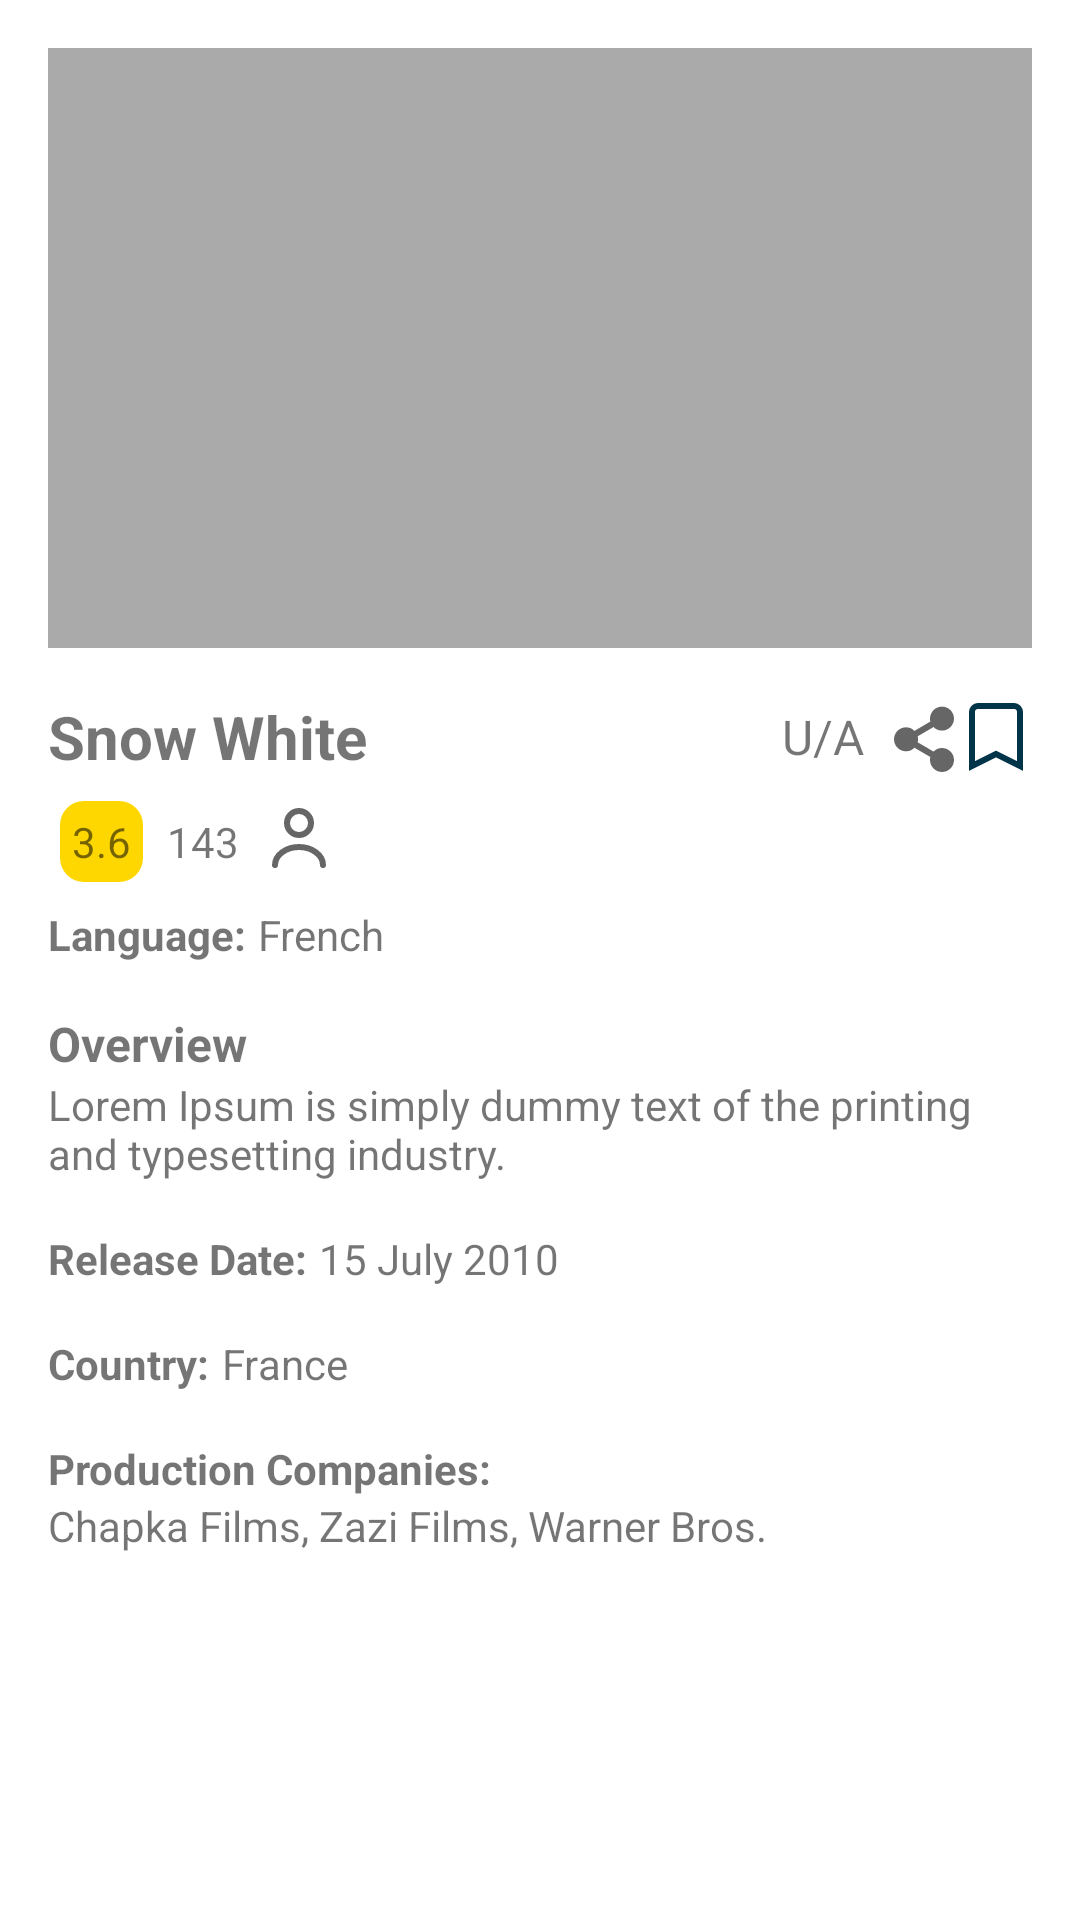

Where to tap for icons on this 1080 x 1920 app screen, as point (x, y):
bookmark: point (996, 737)
share: point (924, 739)
user: point (299, 838)
